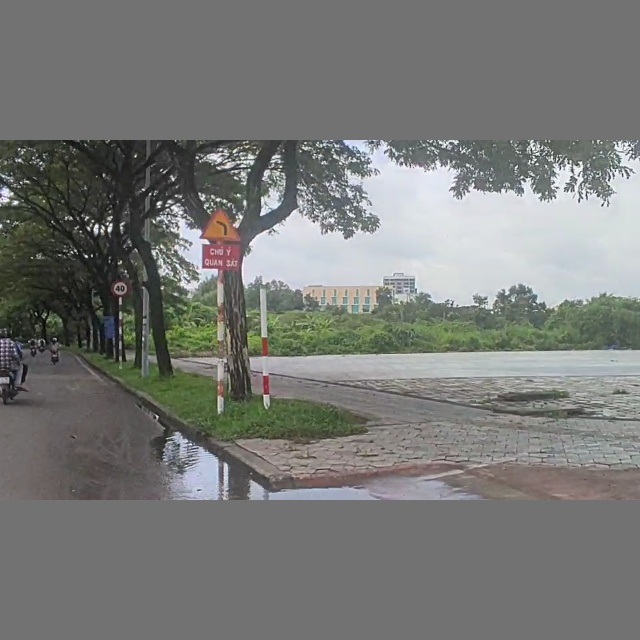P.127*40: (110, 279, 132, 296)
W.201a: (198, 207, 245, 241)
